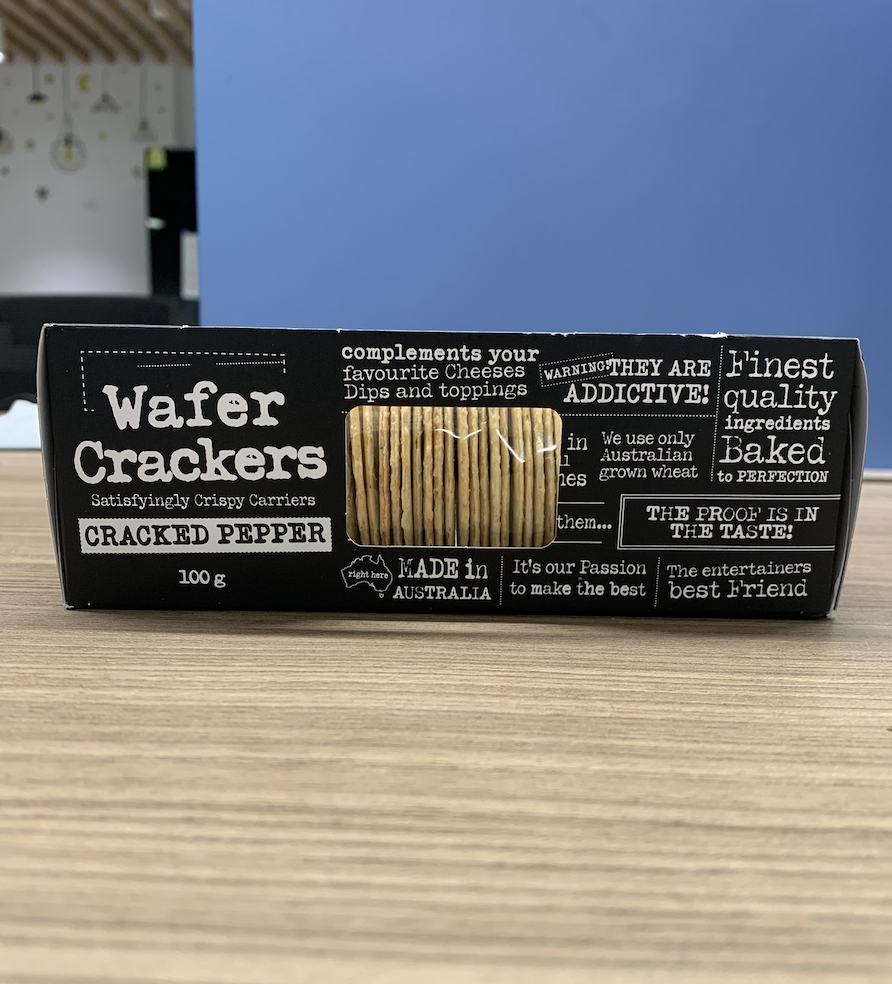crackers_150g: (68, 338, 839, 604)
